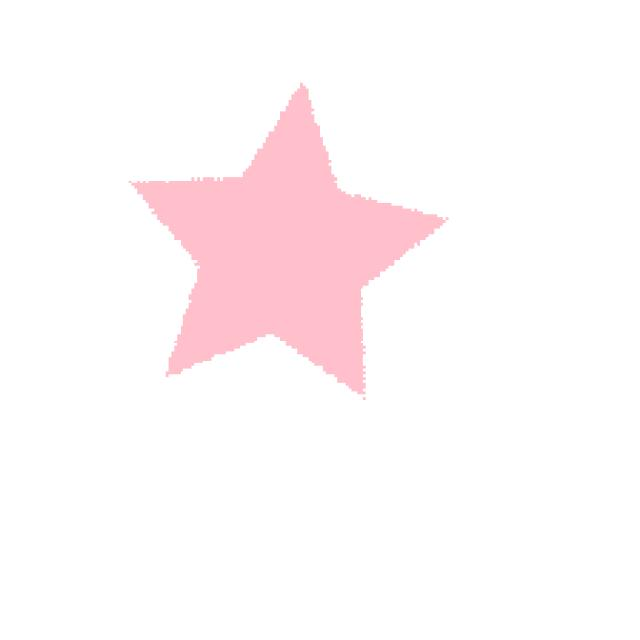Star: (114, 71, 487, 440)
